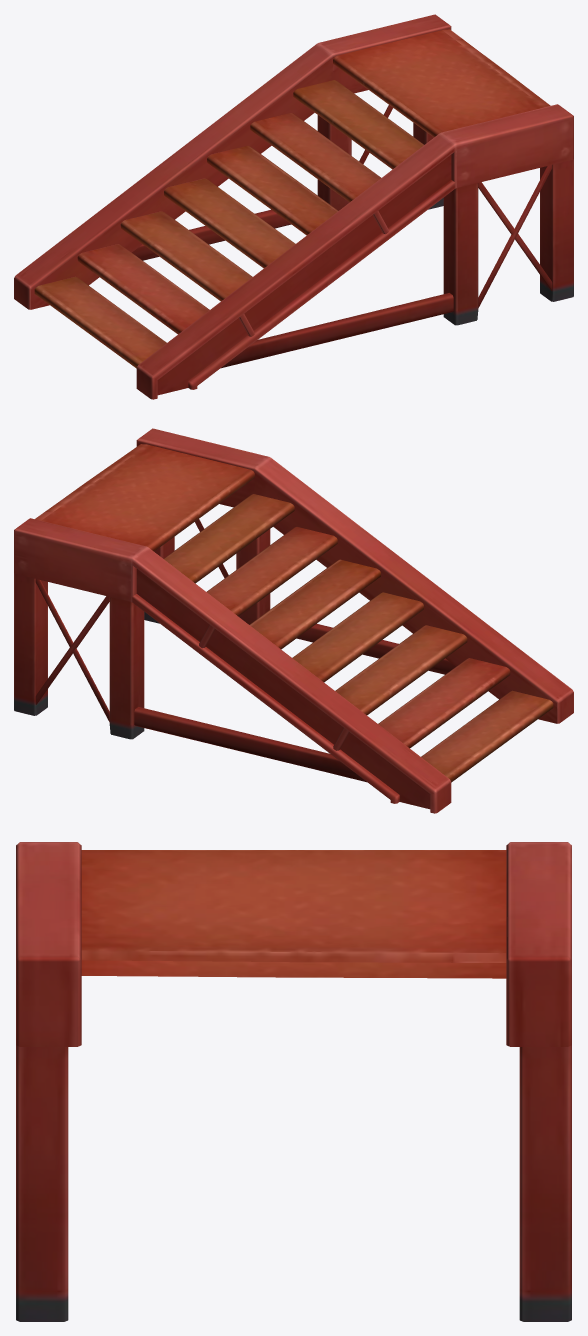
The model's file is stairs-iron-stair.glb.
3 views of the same model, one above another, from view 1: azimuth 30°, elevation 25°; view 2: azimuth 150°, elevation 25°; view 3: azimuth 270°, elevation 25° (orthographic). The views are drawn at different scales.
Size of the model in its own units: 37.25 by 15.3 by 21.2.
1 material, 1 textured.
